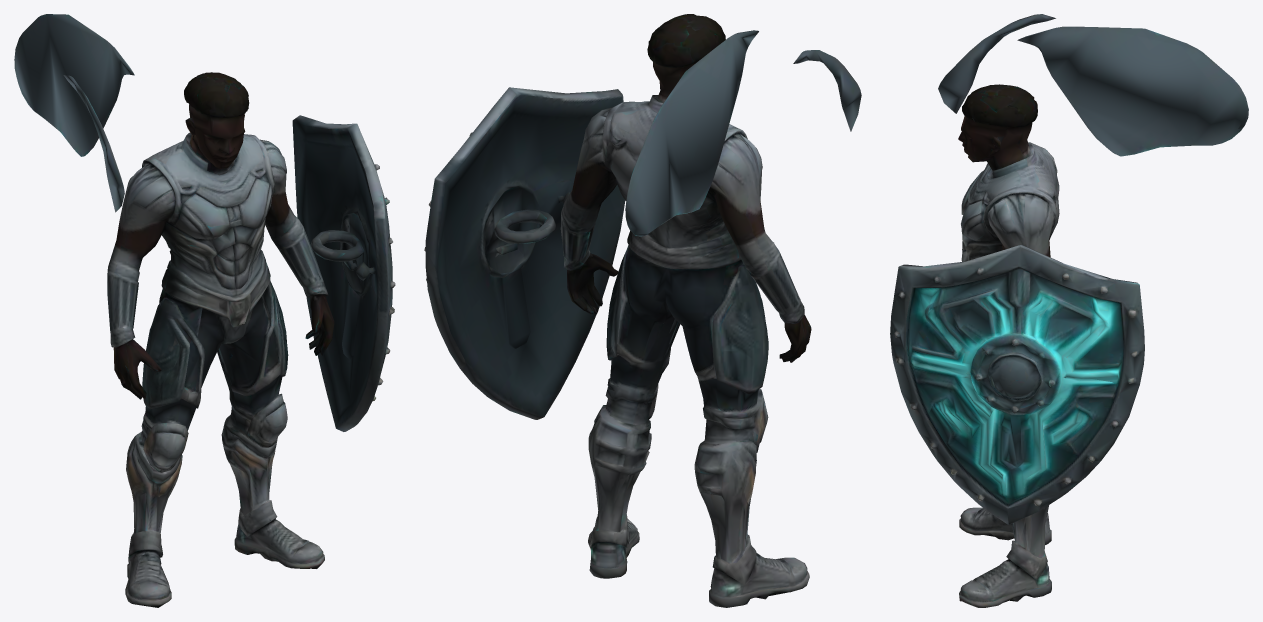
File: ARMURE_2.glb
The picture shows the model from 3 angles, left to right: view 1: azimuth 30°, elevation 25°; view 2: azimuth 150°, elevation 25°; view 3: azimuth 270°, elevation 25°; orthographic projection. The views are drawn at different scales.
Parts seen in each view (by area): view 1: node_0; view 2: node_0; view 3: node_0.
Part boxes in pixels (<box>): node_0: <box>14,14,395,607</box>; node_0: <box>424,14,861,607</box>; node_0: <box>890,14,1248,607</box>.
Bounding box in the file's own units: 0.6205 × 1.04 × 0.6703.
1 material, 1 textured.
